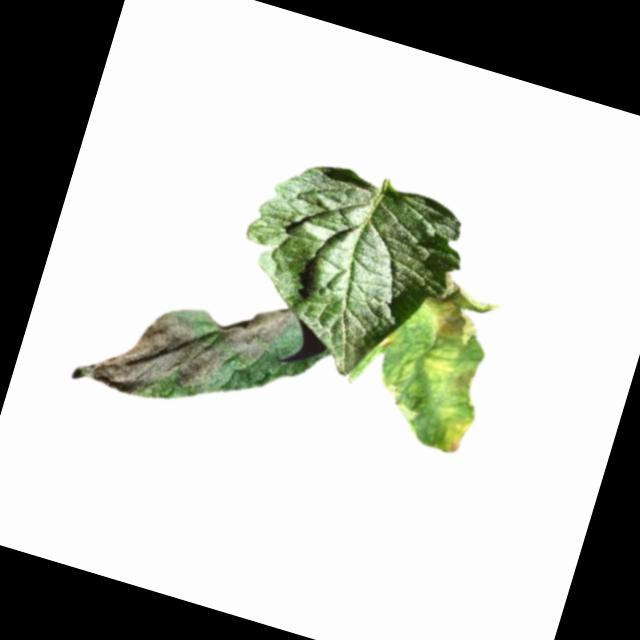Late_blight: (72, 293, 228, 418), (414, 270, 507, 355), (215, 293, 298, 374), (441, 355, 485, 407), (436, 410, 474, 459)
healthy: (212, 143, 480, 399)
